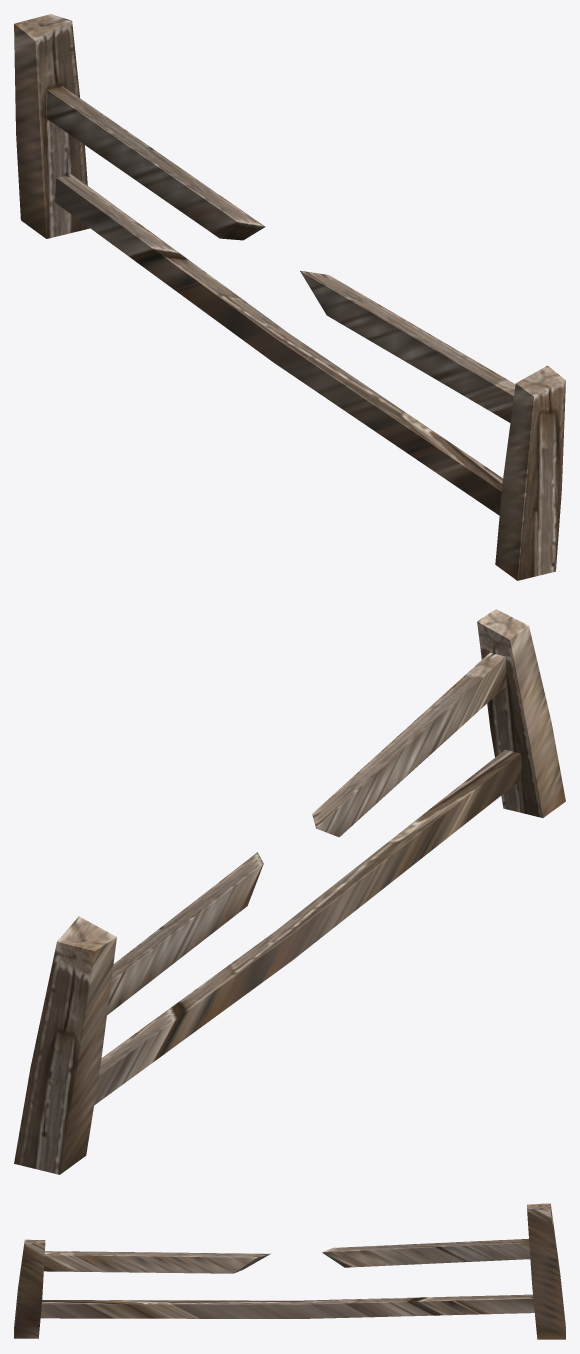
File: start_fence_17.glb
3 renders of one model, top to bottom at view 1: azimuth 30°, elevation 25°; view 2: azimuth 150°, elevation 25°; view 3: azimuth 270°, elevation 25°, orthographic. The views are drawn at different scales.
Visible parts, largest first — view 1: start_fence_17_game; view 2: start_fence_17_game; view 3: start_fence_17_game.
Boxes of the visible parts, box(x1,y1,x2,y2) form: start_fence_17_game: box(14, 14, 565, 580); start_fence_17_game: box(14, 609, 565, 1174); start_fence_17_game: box(14, 1203, 565, 1339).
Bounding box in the file's own units: 0.5017 × 1.3 × 5.25.
1 material, 1 textured.
